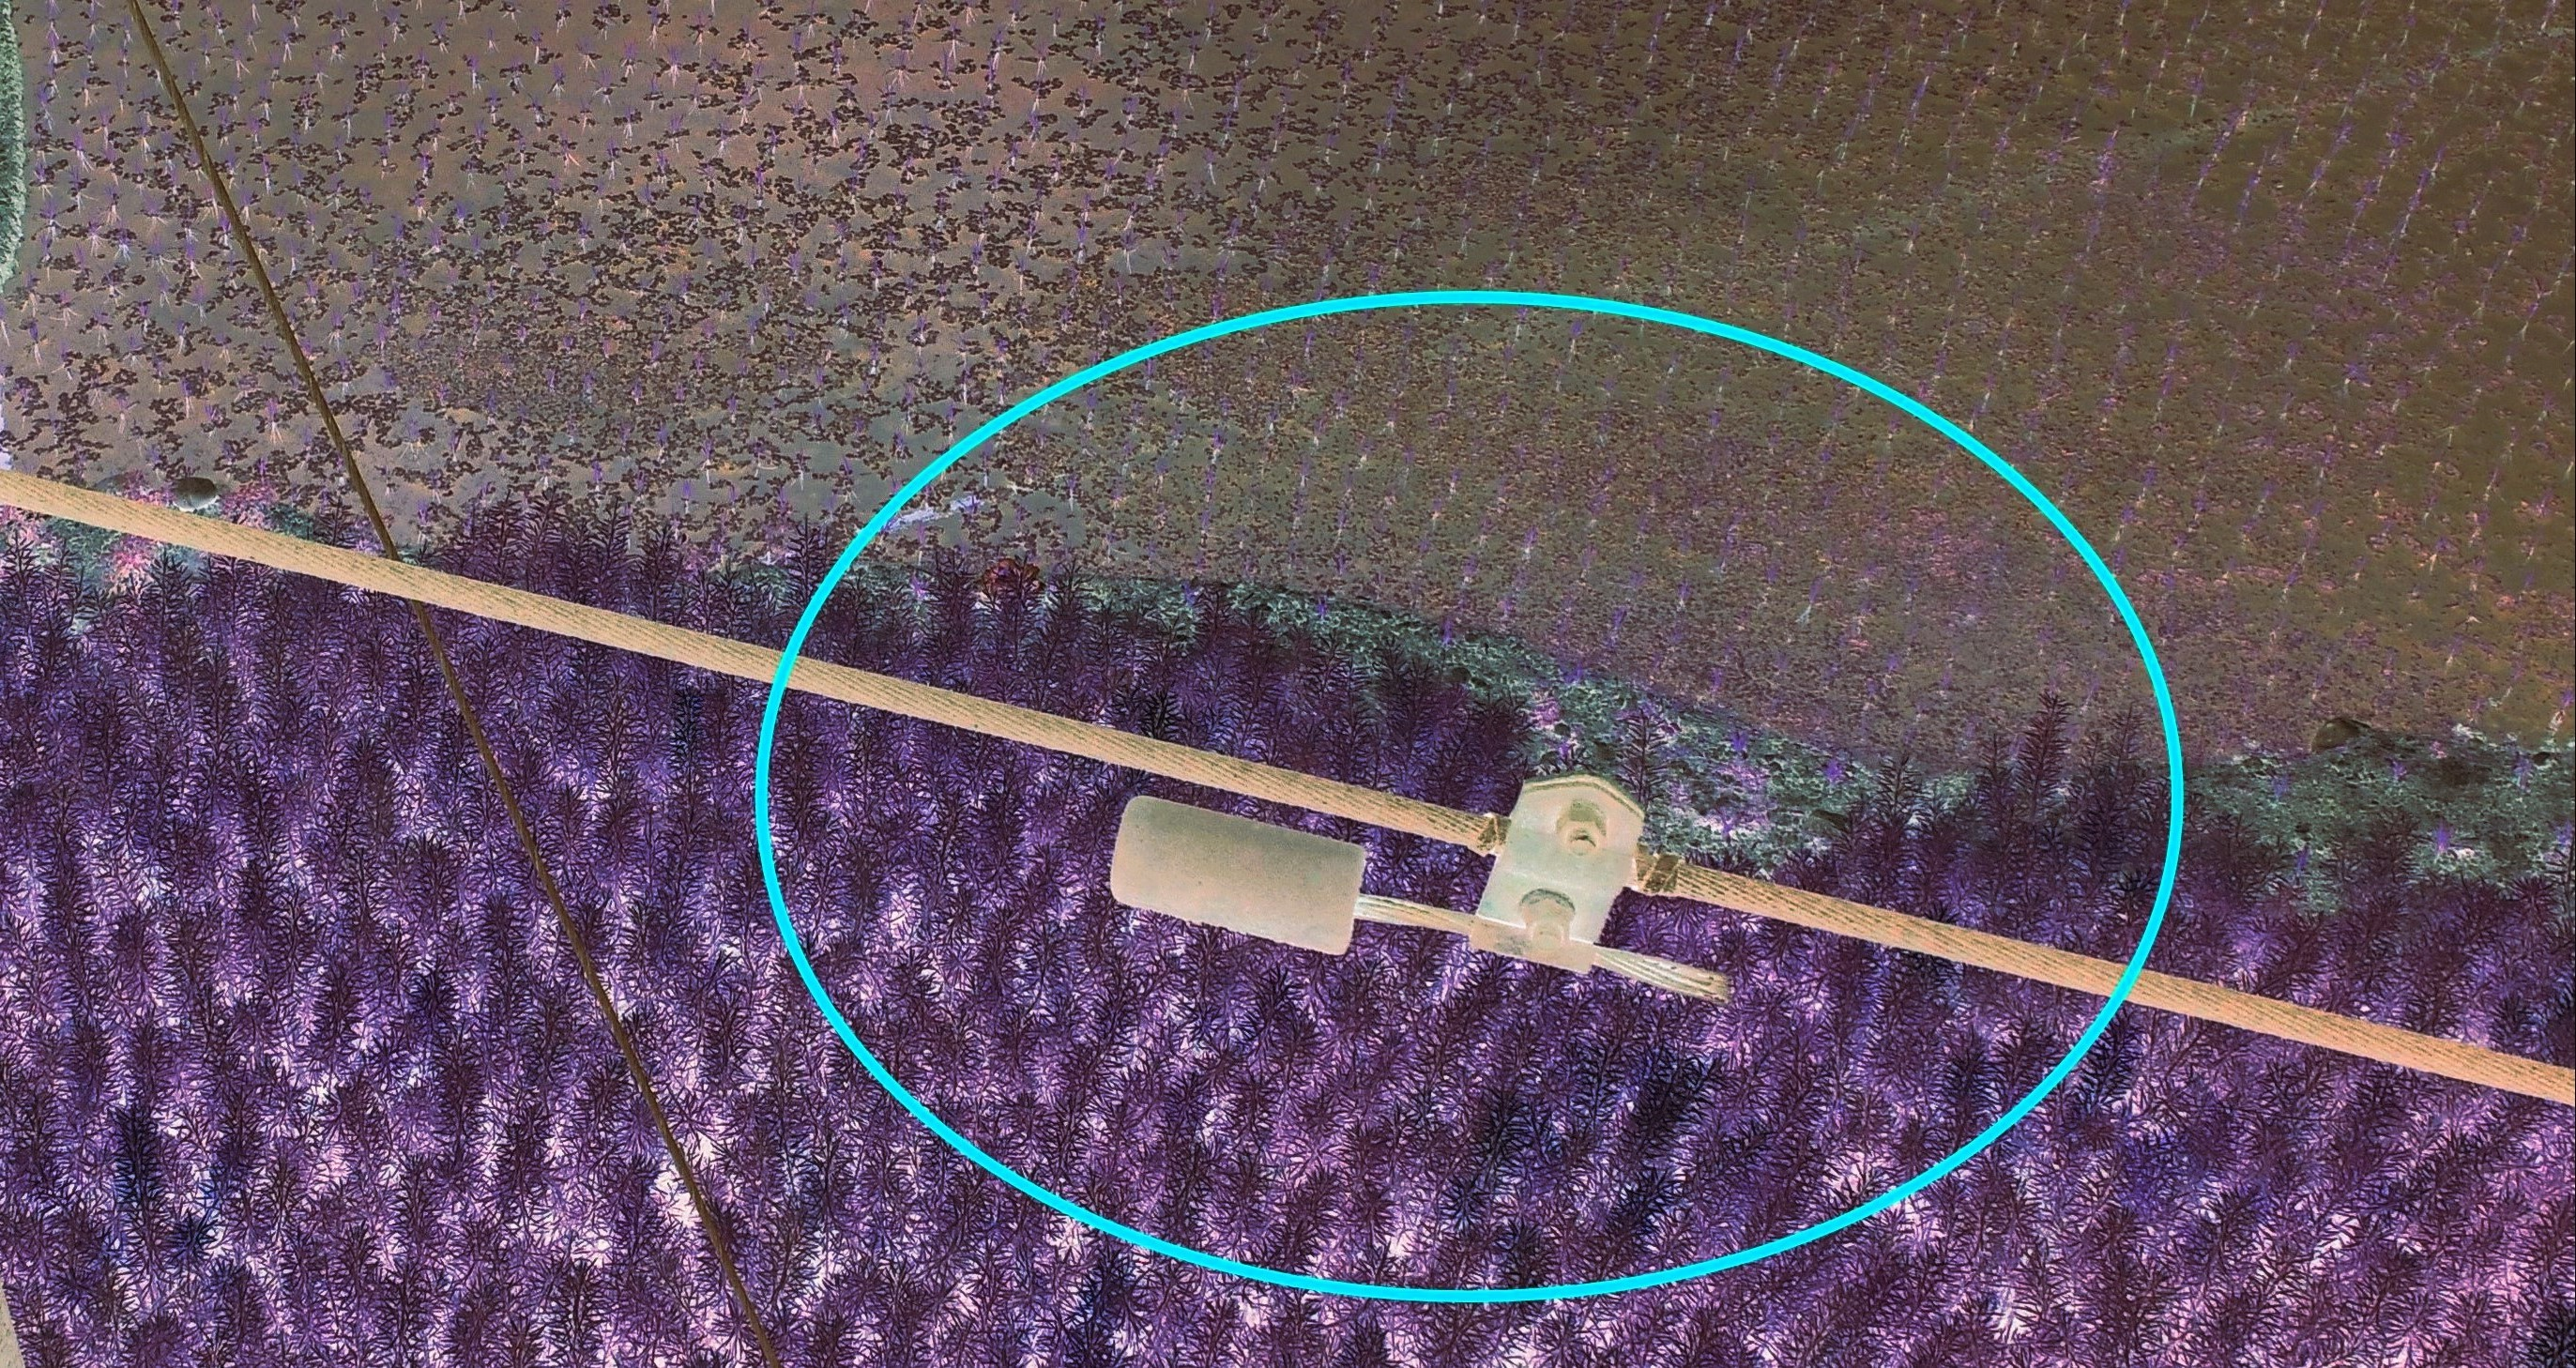Damage of shockproof hammer: (1106, 727, 1763, 1066)
